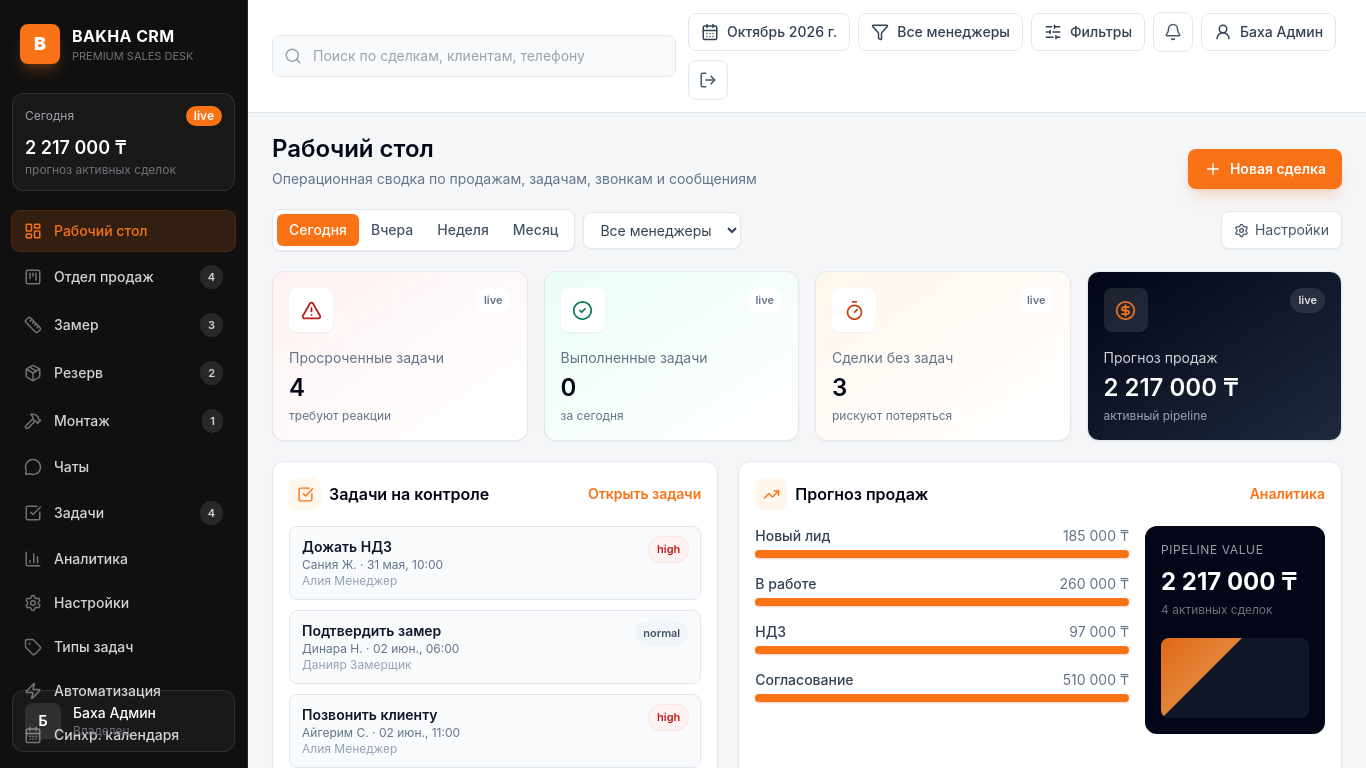
Test: Bakha CRM smoke › period dropdown opens when period button clicked
Expected: the heading "Рабочий стол" is shown, [272,134,434,163]
What coordinates should you click on to do the following:
click the button with aria-label "Период"
I would click on:
 (769, 32)
Its box is [688,13,850,51].
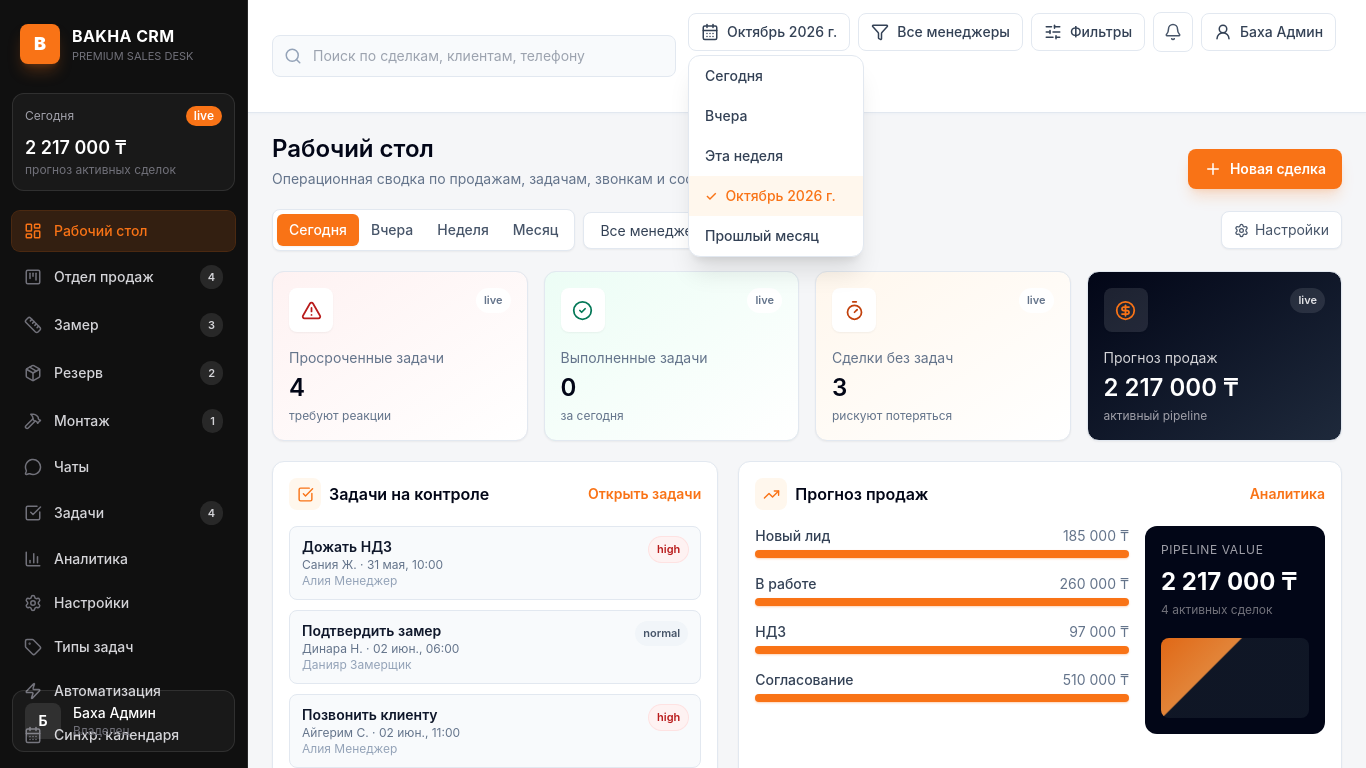
Expected: the element with test id "period-dropdown" is shown, [688,55,864,257]
